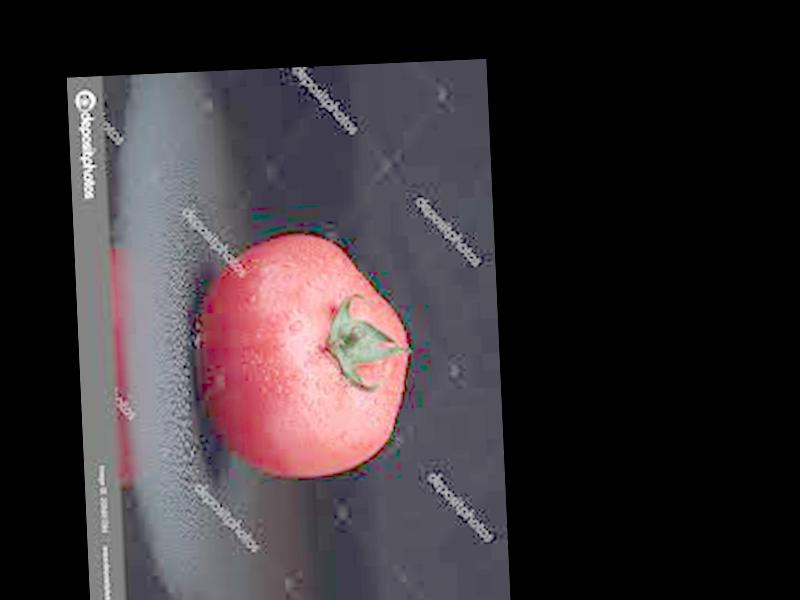Tomato: (194, 229, 416, 483)
